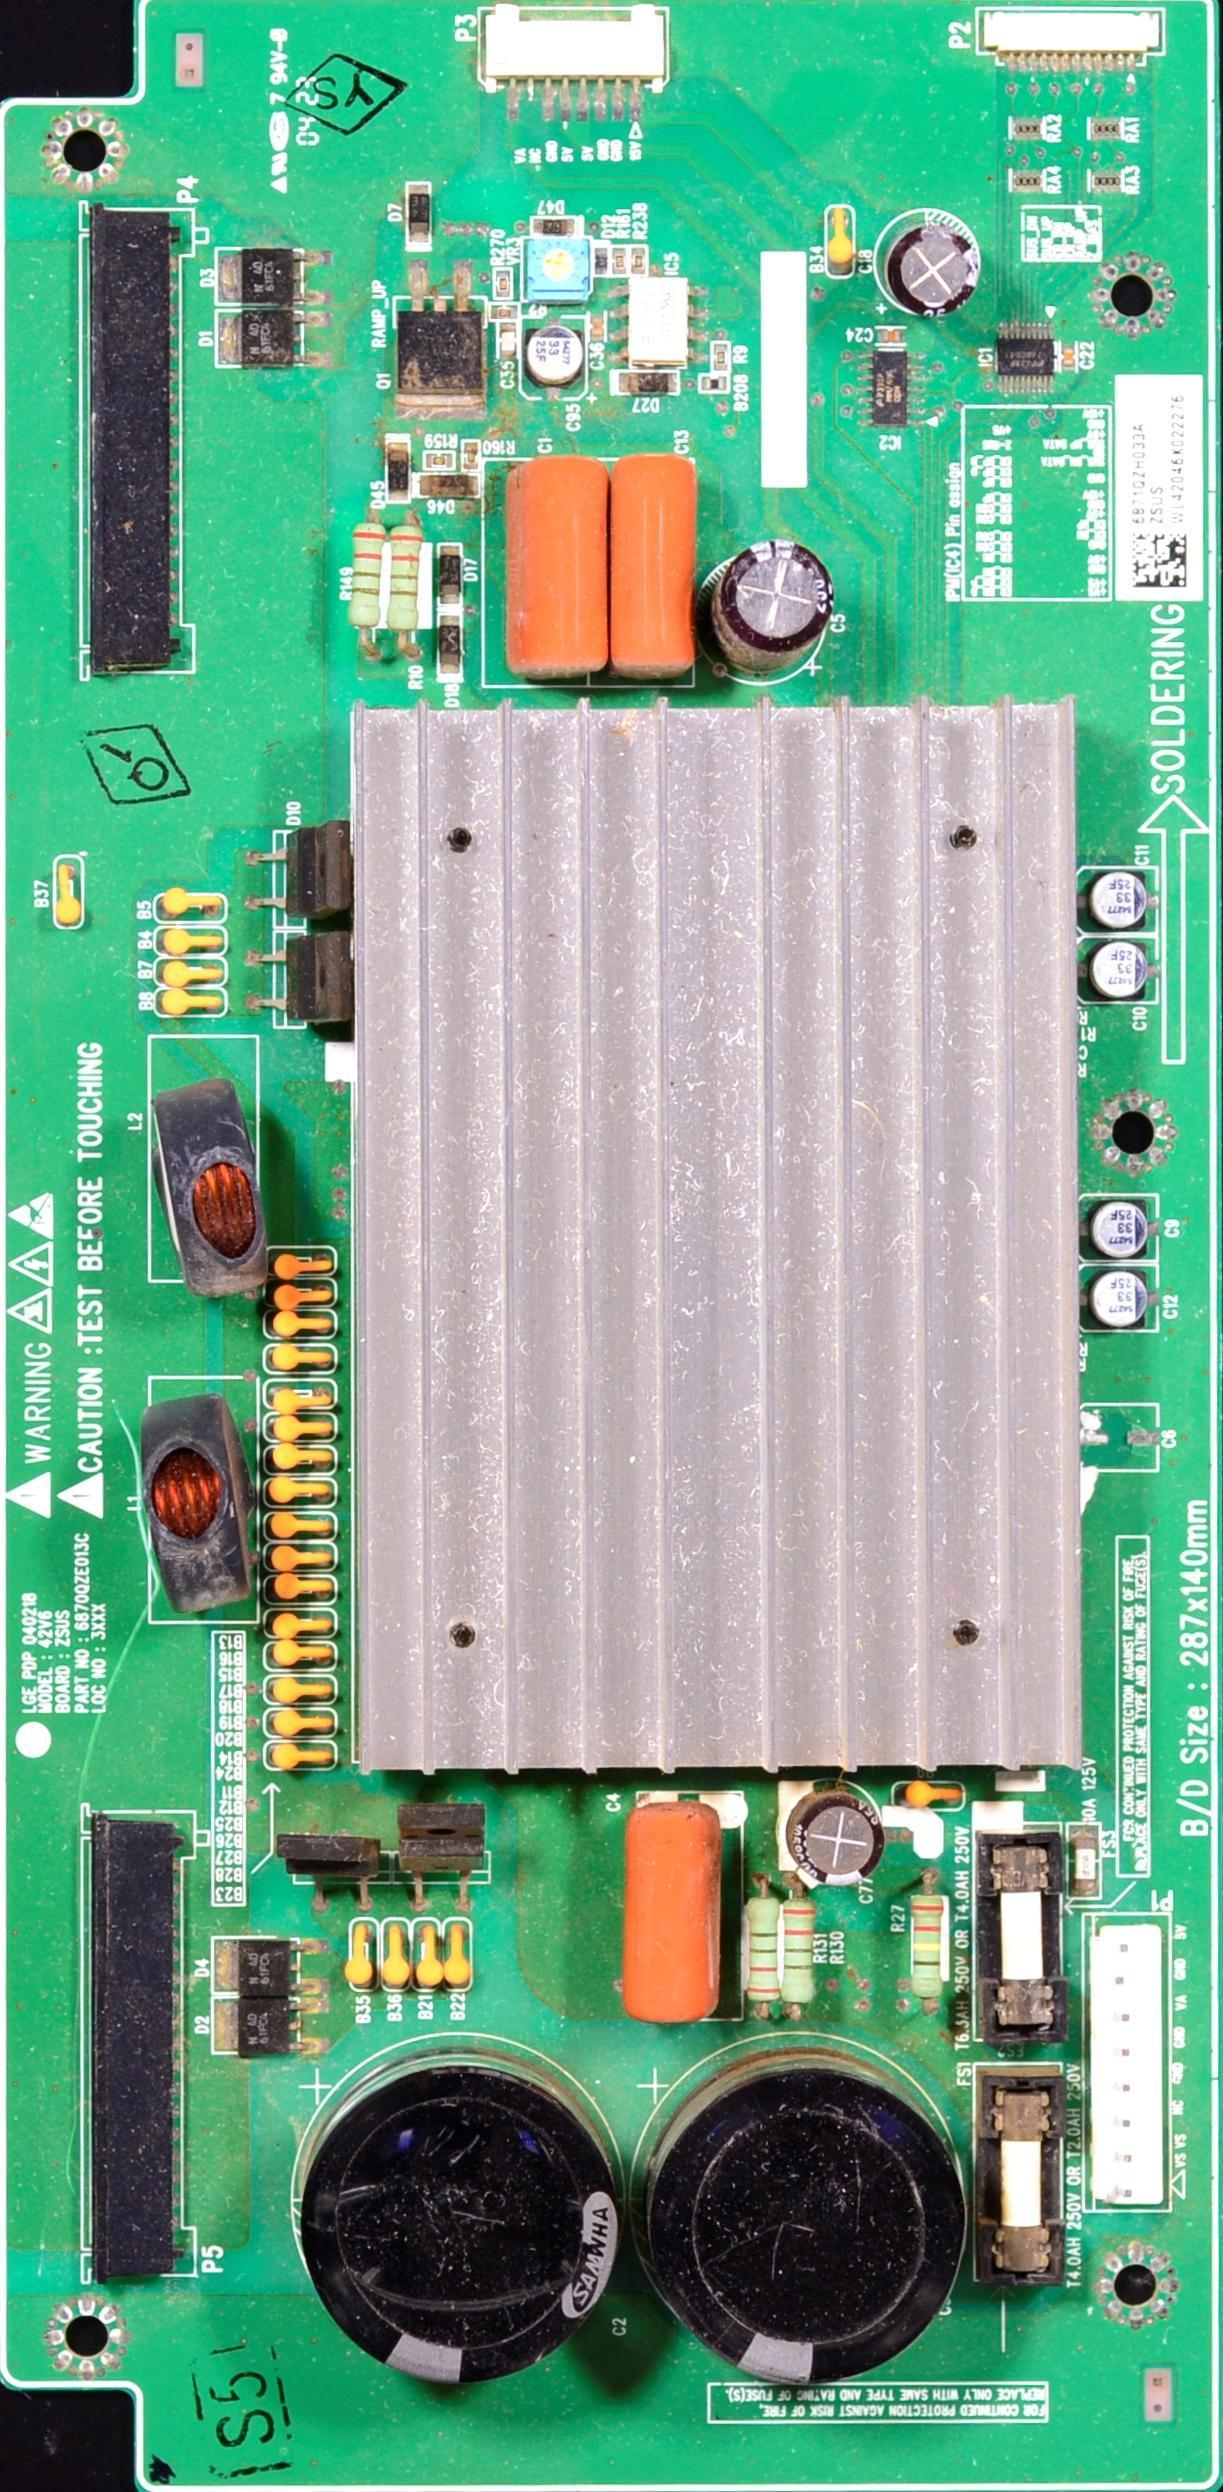Capacitor: (788, 1797, 860, 1855), (542, 328, 585, 392), (1092, 1283, 1142, 1324), (1103, 950, 1151, 991), (904, 230, 939, 278), (1096, 1206, 1136, 1244), (1095, 879, 1130, 916), (499, 321, 516, 360), (877, 327, 905, 344), (1061, 345, 1076, 372)
Connector: (86, 199, 186, 674), (87, 1813, 186, 2284), (1086, 1916, 1167, 2209), (978, 9, 1165, 69)
IC: (608, 278, 709, 366), (859, 349, 926, 425), (999, 322, 1055, 393)
Resistor: (915, 1872, 946, 2013), (746, 1875, 779, 2016), (783, 1872, 814, 2017), (350, 521, 388, 628), (390, 522, 423, 630), (494, 269, 511, 299), (630, 246, 647, 277), (713, 342, 729, 372), (612, 248, 628, 276), (464, 441, 479, 468), (426, 453, 452, 468)
Transistor: (416, 311, 474, 394)
